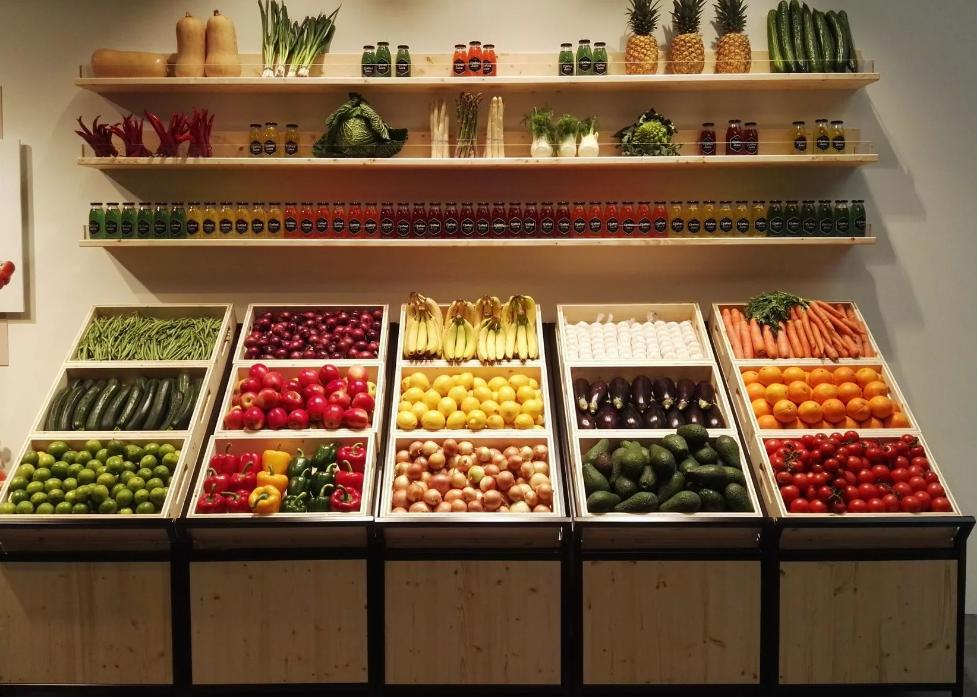banana: (396, 294, 540, 367)
butternut squash: (170, 13, 245, 86), (86, 49, 168, 83)
carrot: (726, 298, 874, 362)
cucumber: (48, 372, 212, 434), (766, 1, 860, 73)
eggplant: (572, 361, 724, 430)
garlic: (564, 310, 706, 372)
lemon: (396, 364, 544, 431)
onion: (385, 439, 558, 515), (242, 306, 383, 364)
orange: (744, 363, 908, 433)
pineapple: (619, 13, 752, 76)
red apple: (222, 362, 378, 436)
sweet pepper: (198, 435, 368, 521)
tomato: (763, 434, 951, 517)
